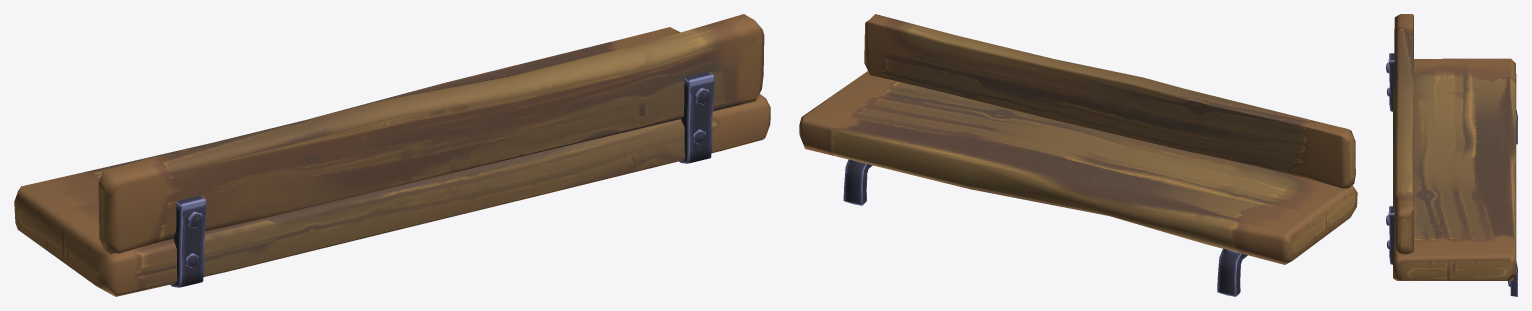
Rendered from SM_PROP_shelf_town_02.fbx.
The picture shows the model from 3 angles, left to right: view 1: azimuth 30°, elevation 25°; view 2: azimuth 150°, elevation 25°; view 3: azimuth 270°, elevation 25°; orthographic projection. The views are drawn at different scales.
Visible parts, largest first — view 1: SM_PROP_shelf_town_02_LOD0; view 2: SM_PROP_shelf_town_02_LOD0; view 3: SM_PROP_shelf_town_02_LOD0.
Part boxes in pixels (x1=…): SM_PROP_shelf_town_02_LOD0: x1=14, y1=14, x2=770, y2=296; SM_PROP_shelf_town_02_LOD0: x1=799, y1=14, x2=1357, y2=296; SM_PROP_shelf_town_02_LOD0: x1=1386, y1=14, x2=1517, y2=296.
Size of what is drawn, in the model's own units: 124 by 30.96 by 34.49.
